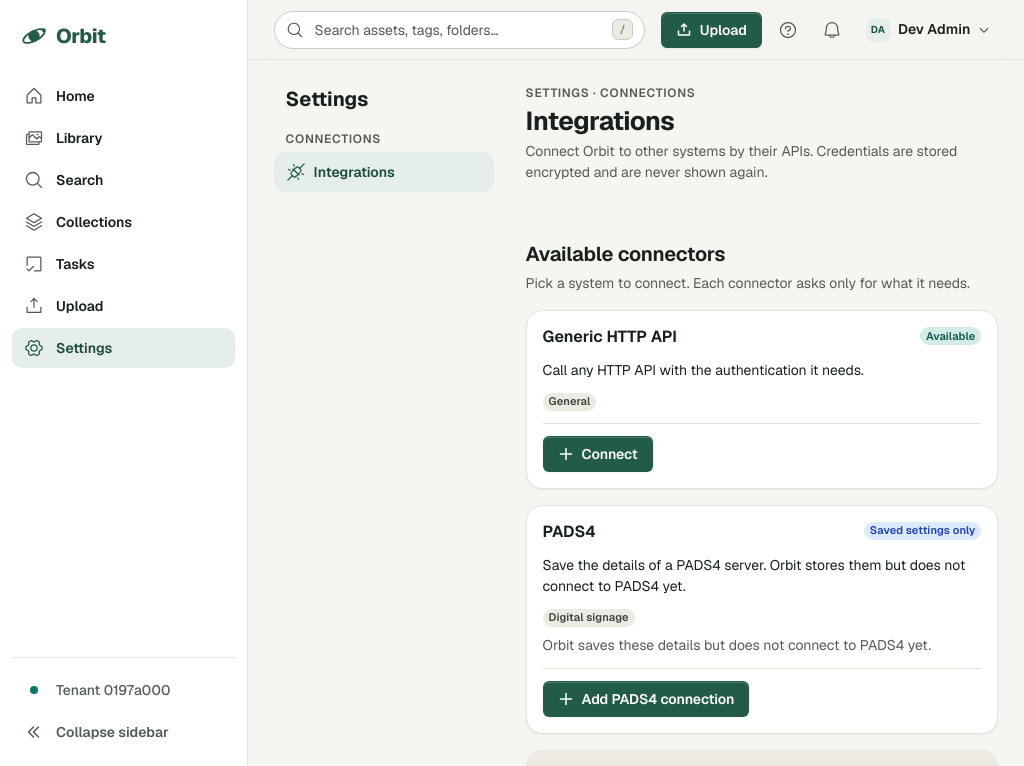
Test: connect dialog › never offers a blank choice for a select that has a default
The image size is (1024, 766).
Click the button with aria-label "Connect Generic HTTP API".
click(598, 454)  # box [543,436,653,472]
(page scrolled)
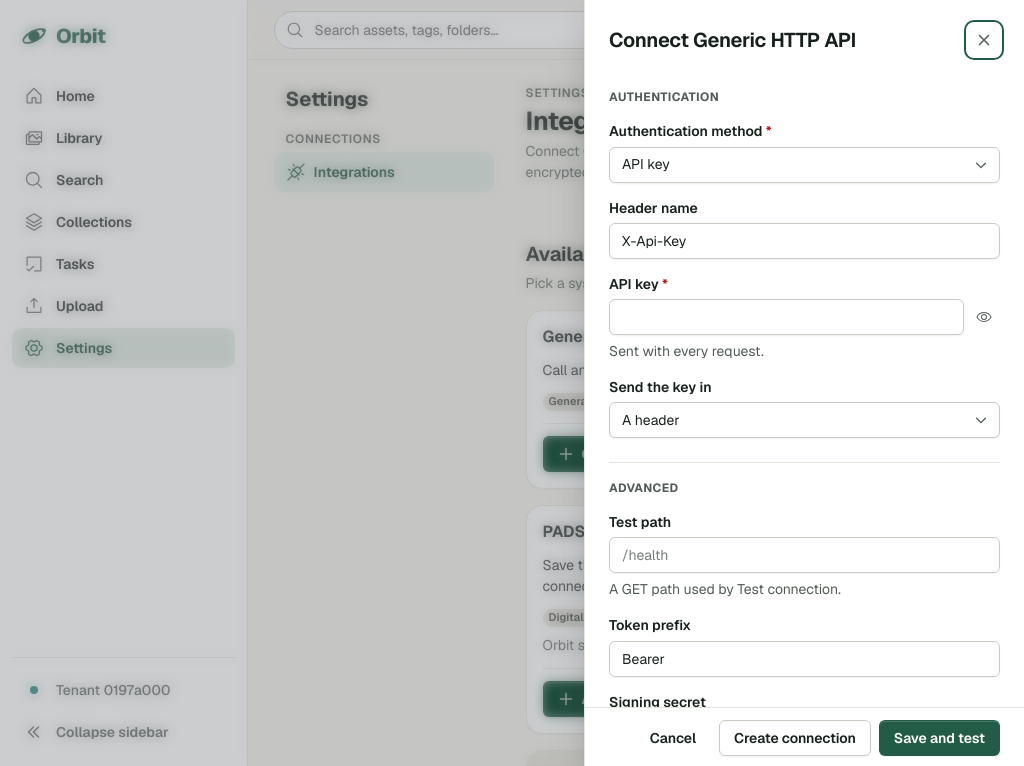
Check: the dropdown labelled "Send the key in" shows "A header", box [609,402,1000,438]
